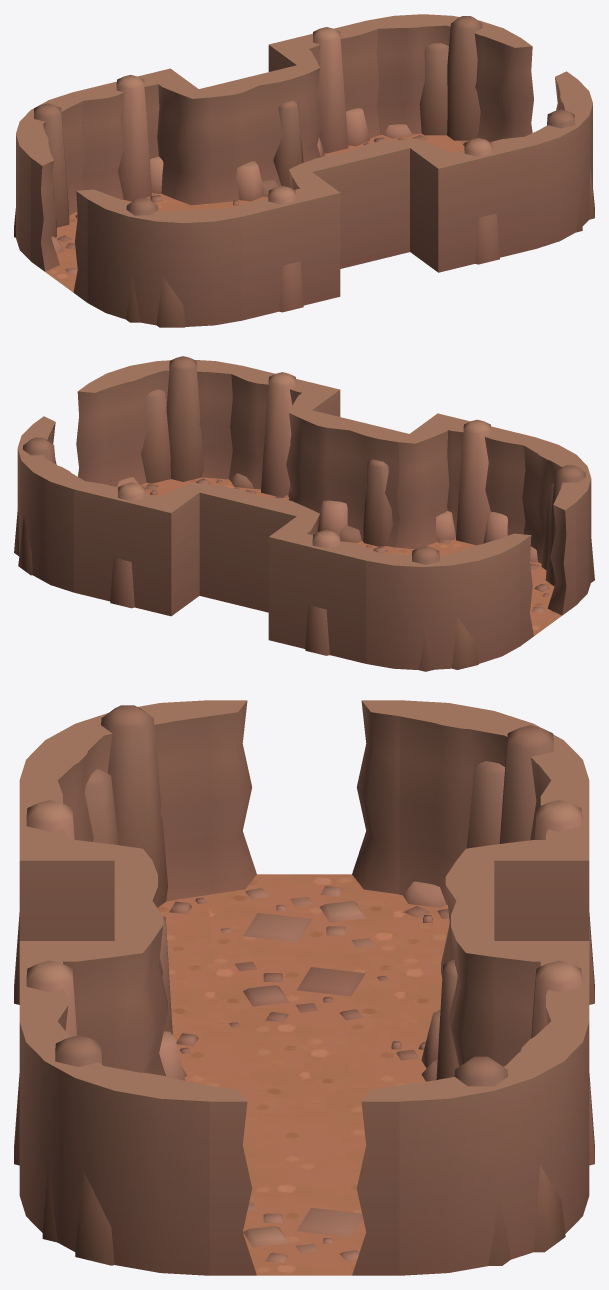
Rendered from kenney-modular-cave-room-wide-variation.glb.
3 views of the same model, one above another, from view 1: azimuth 30°, elevation 25°; view 2: azimuth 150°, elevation 25°; view 3: azimuth 270°, elevation 25° (orthographic). The views are drawn at different scales.
Parts seen in each view (by area): view 1: room-wide-variation; view 2: room-wide-variation; view 3: room-wide-variation.
Boxes of the visible parts, x1=… form: room-wide-variation: x1=14, y1=14, x2=594, y2=327; room-wide-variation: x1=14, y1=356, x2=594, y2=671; room-wide-variation: x1=14, y1=700, x2=594, y2=1275.
Bounding box in the file's own units: 20 × 4.4 × 12.24.
Materials: 1 (1 with a texture image).
